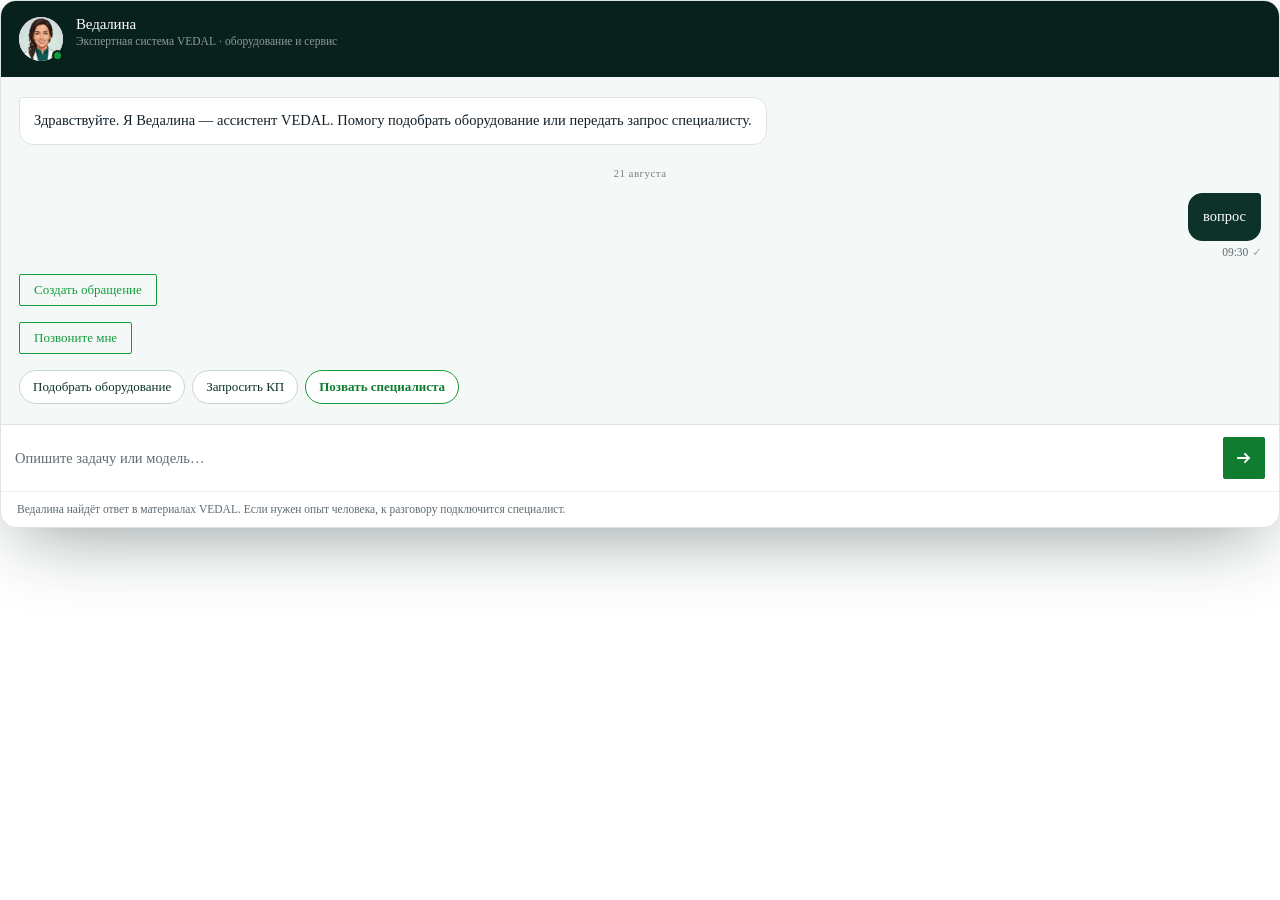
Test: кто на связи › часы работы раскрываются нажатием на статус
Click the button "Специалисты офлайн".
click(134, 56)  # box [76,49,192,62]
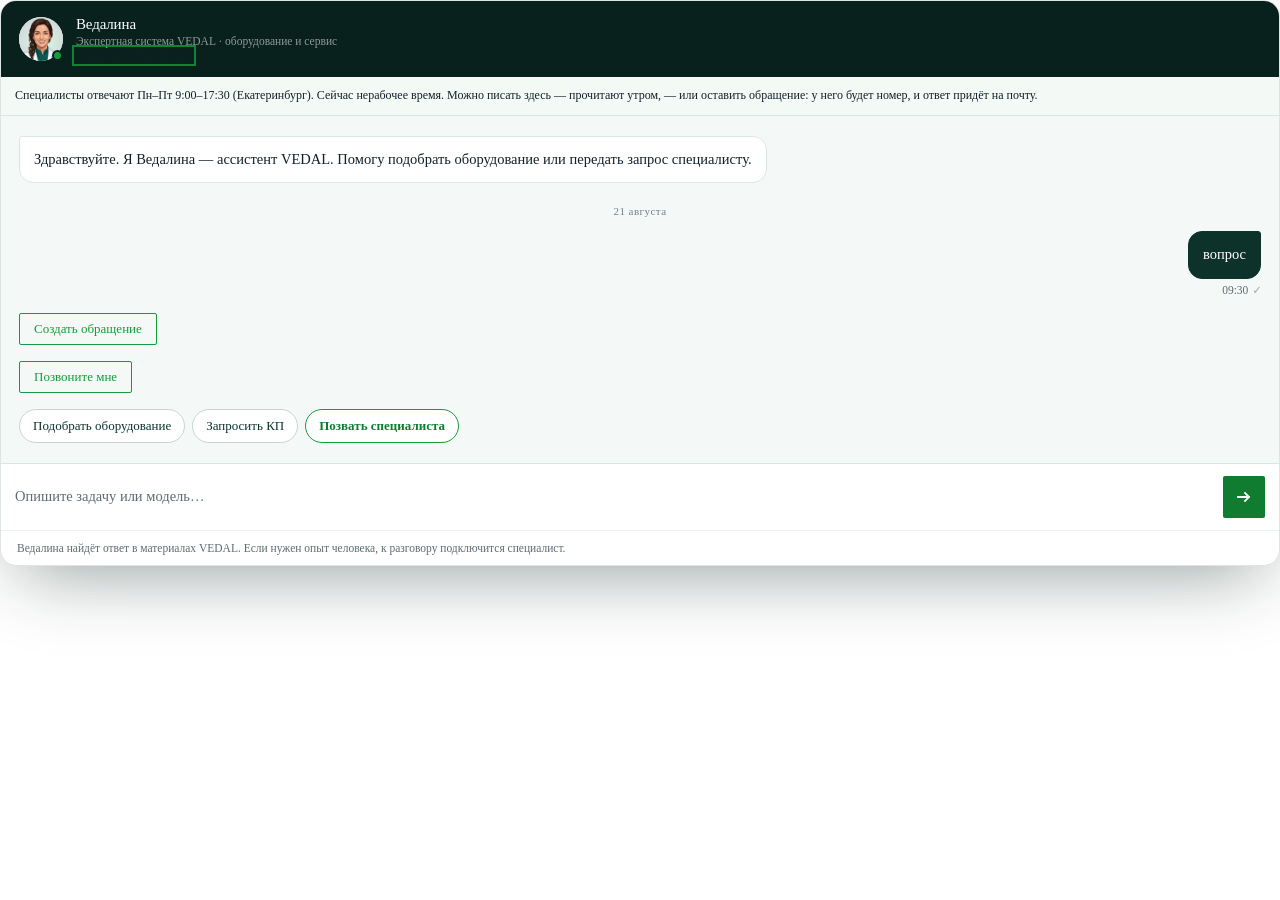
Now the text "Пн–Пт 9:00–17:30" is shown, box [137,88,311,102]
Now the text "оставить обращение" is shown, box [317,88,1038,102]
